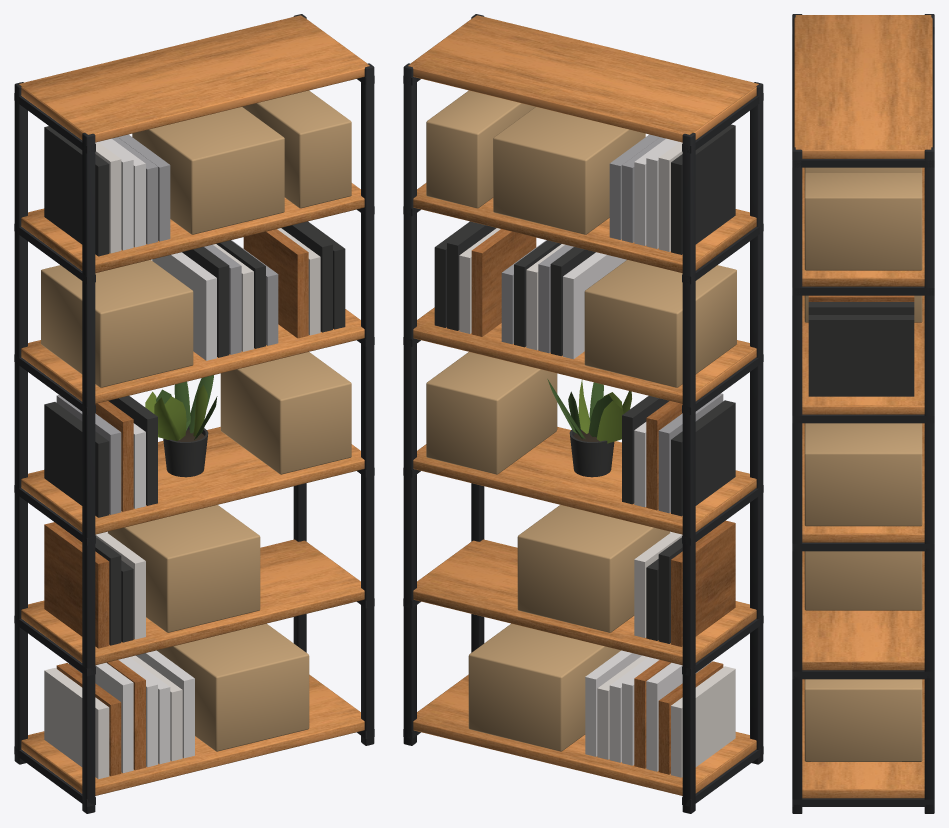
The model's file is storage.bookcase-tall.glb.
3 renders of one model, left to right at view 1: azimuth 30°, elevation 25°; view 2: azimuth 150°, elevation 25°; view 3: azimuth 270°, elevation 25°, orthographic. The views are drawn at different scales.
Parts seen in each view (by area): view 1: storage.bookcase-tall.001; view 2: storage.bookcase-tall.001; view 3: storage.bookcase-tall.001.
Boxes of the visible parts, left/top/right/bottom form: storage.bookcase-tall.001: left=14, top=14, right=374, bottom=813; storage.bookcase-tall.001: left=403, top=14, right=763, bottom=813; storage.bookcase-tall.001: left=792, top=14, right=934, bottom=813.
Size of the model in its own units: 0.8 by 1.8 by 0.35.
Materials: 11 (2 with a texture image).
